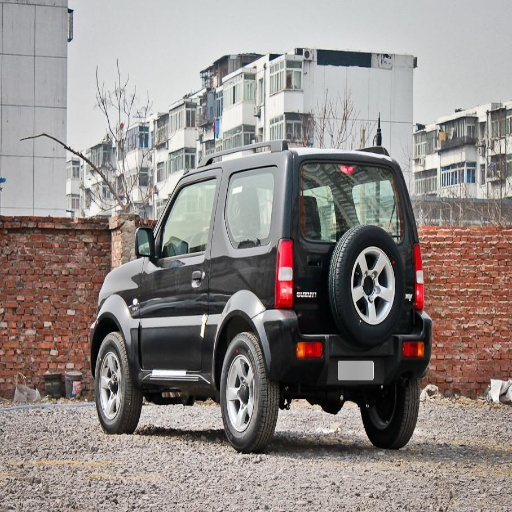trunk: (265, 169, 349, 271)
